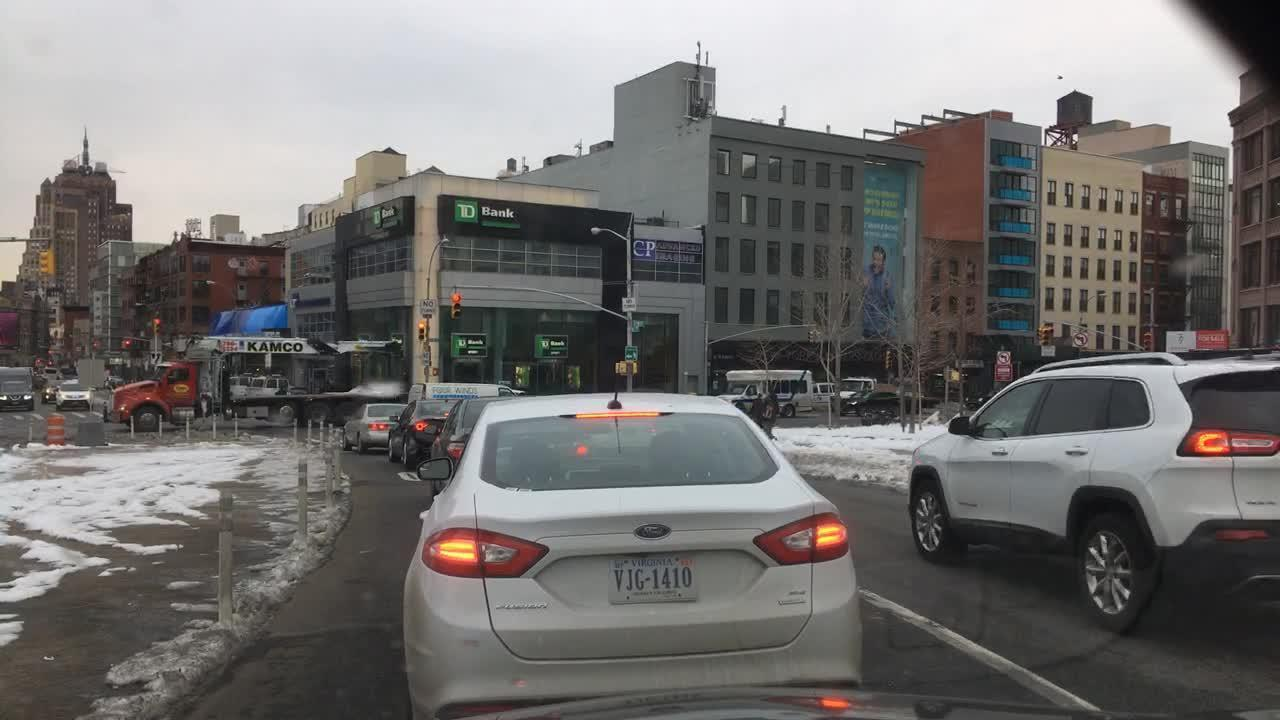ford: (633, 521, 669, 541)
